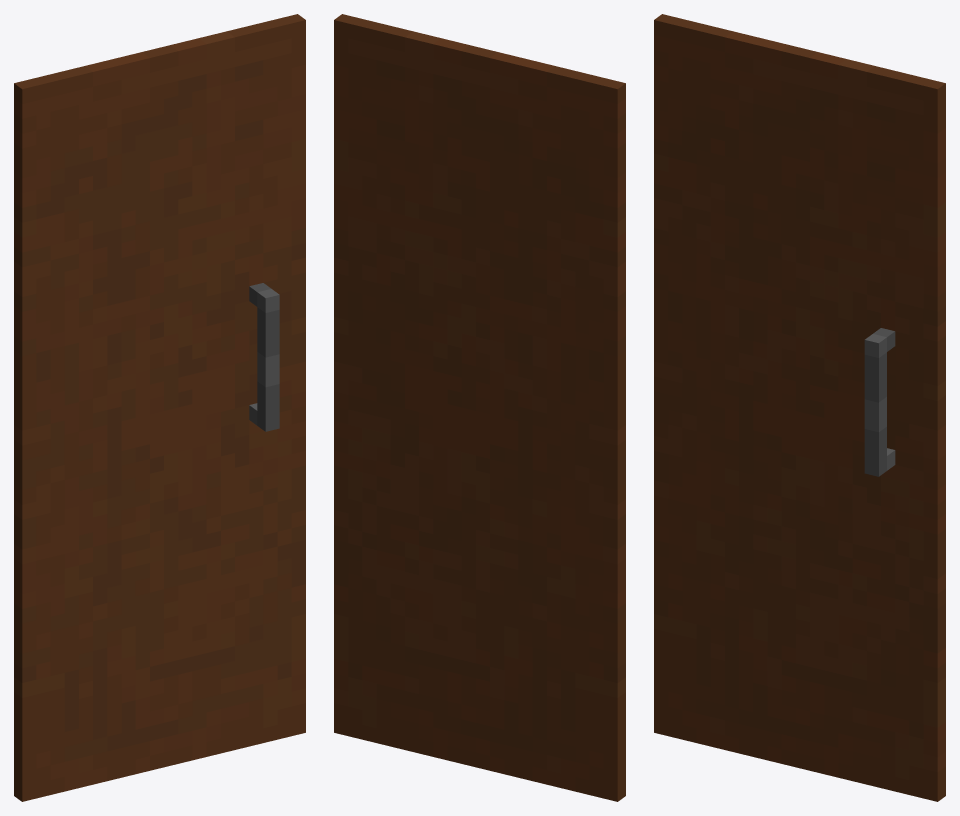
Rendered from wardrobe1-door-left.obj.
3 renders of one model, left to right at view 1: azimuth 30°, elevation 25°; view 2: azimuth 150°, elevation 25°; view 3: azimuth 330°, elevation 25°, orthographic.
Size of the model in its own units: 2 by 4.8 by 0.3.
Materials: 1 (1 with a texture image).
